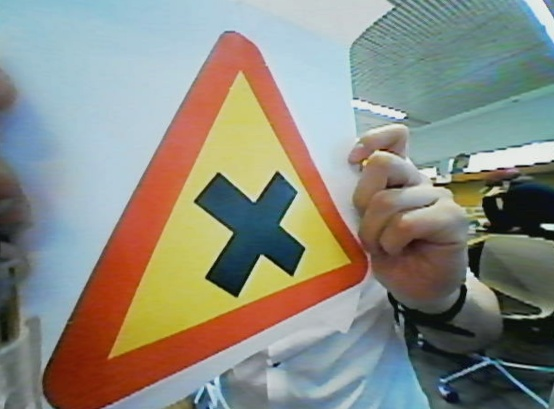junction: (25, 22, 376, 409)
